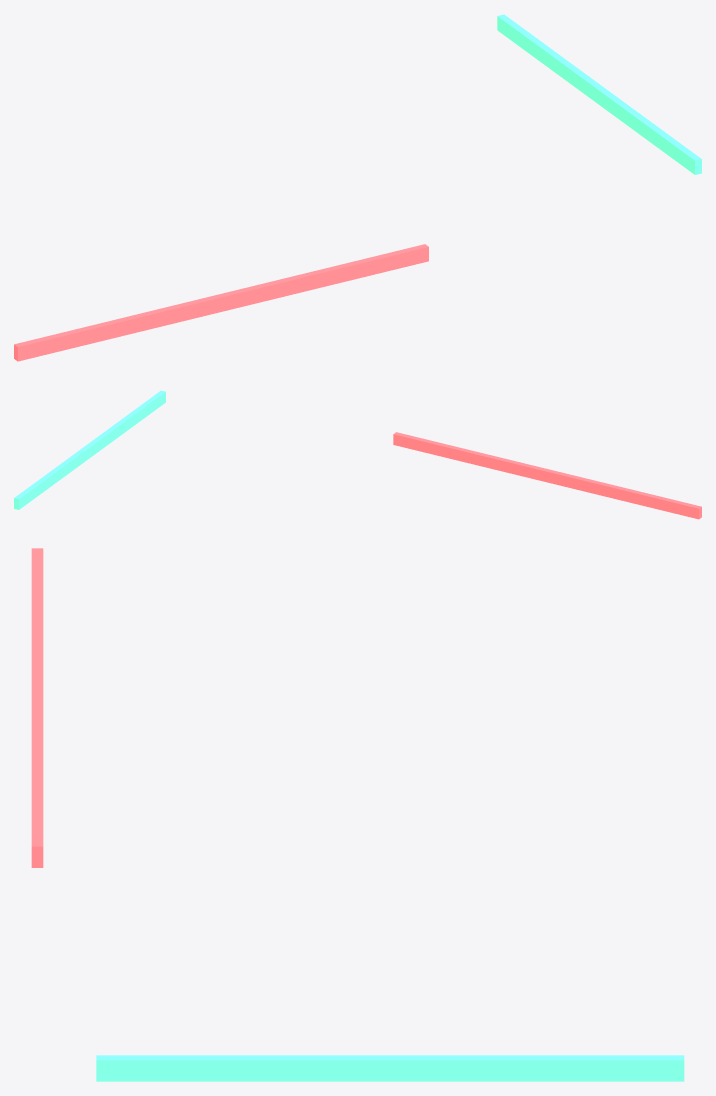
File: neons_salao.glb
3 renders of one model, top to bottom at view 1: azimuth 30°, elevation 25°; view 2: azimuth 150°, elevation 25°; view 3: azimuth 270°, elevation 25°, orthographic. The views are drawn at different scales.
Visible parts, largest first — view 1: Neon_Salao_Vermelho, Neon_Salao_Verde; view 2: Neon_Salao_Vermelho, Neon_Salao_Verde; view 3: Neon_Salao_Verde, Neon_Salao_Vermelho.
Boxes of the visible parts, x1,y1,x2,y2 form: Neon_Salao_Vermelho: [14, 244, 428, 361]; Neon_Salao_Verde: [497, 14, 701, 174]; Neon_Salao_Vermelho: [393, 432, 701, 519]; Neon_Salao_Verde: [14, 390, 165, 509]; Neon_Salao_Verde: [96, 1055, 684, 1081]; Neon_Salao_Vermelho: [31, 548, 43, 867].
Bounding box in the file's own units: 4.12 × 0.08 × 2.22.
